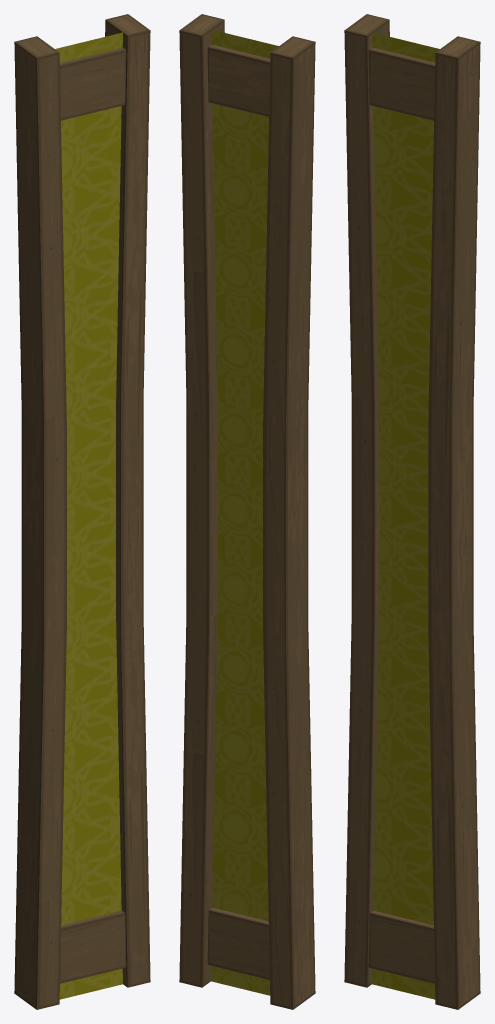
The model's file is SM_building_wall_21.glb.
The picture shows the model from 3 angles, left to right: view 1: azimuth 30°, elevation 25°; view 2: azimuth 150°, elevation 25°; view 3: azimuth 330°, elevation 25°; orthographic projection.
Visible parts, largest first — view 1: SM_building_wall_21; view 2: SM_building_wall_21; view 3: SM_building_wall_21.
Boxes of the visible parts, x1=… form: SM_building_wall_21: x1=14, y1=14, x2=150, y2=1009; SM_building_wall_21: x1=179, y1=14, x2=315, y2=1009; SM_building_wall_21: x1=344, y1=14, x2=480, y2=1009.
Bounding box in the file's own units: 0.5 × 4 × 0.1707.
2 materials, 2 textured.
